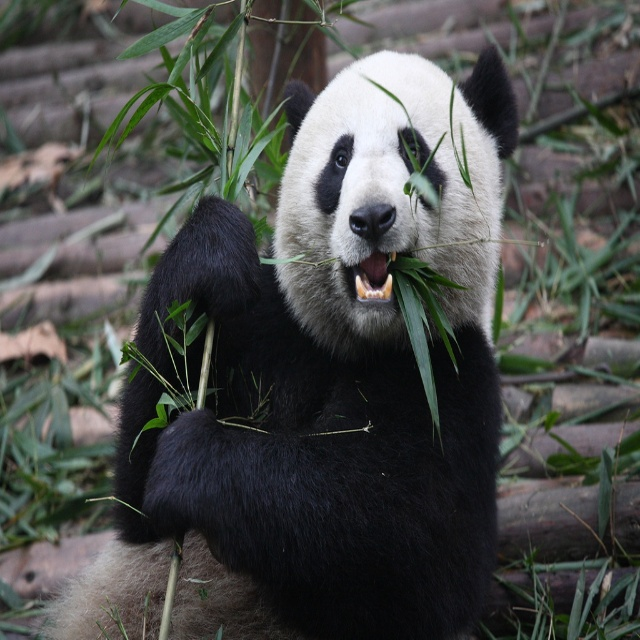Panda: (110, 43, 520, 639)
